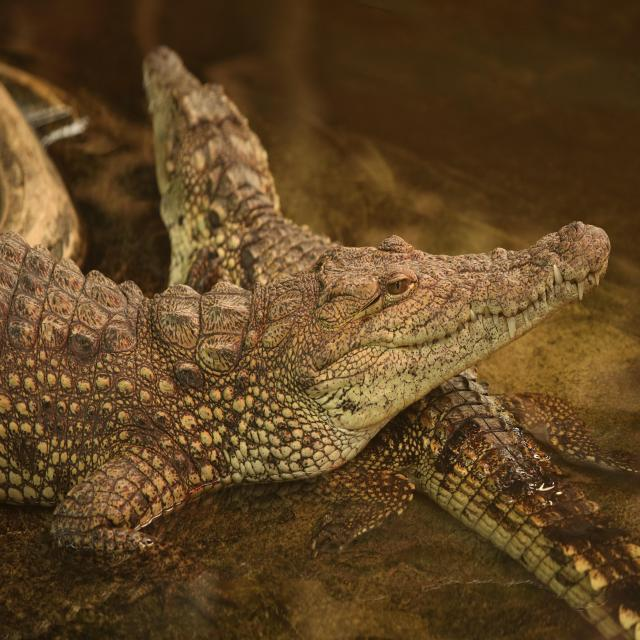crocodile: (0, 40, 640, 640)
